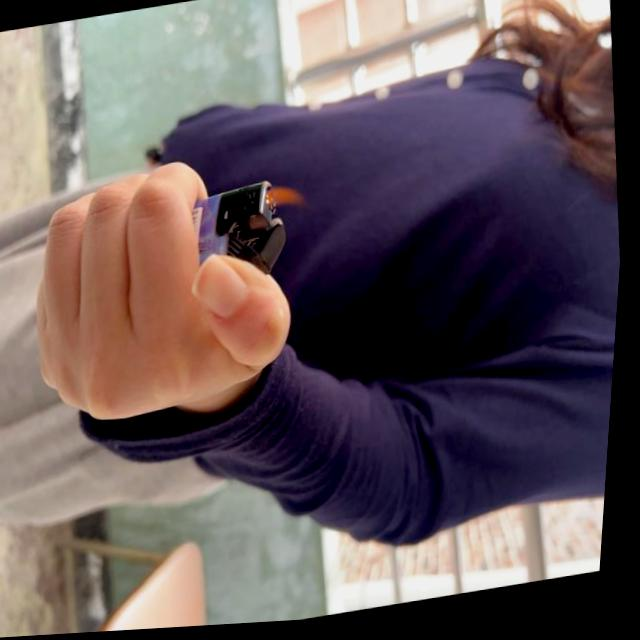helmet: (266, 187, 309, 216)
